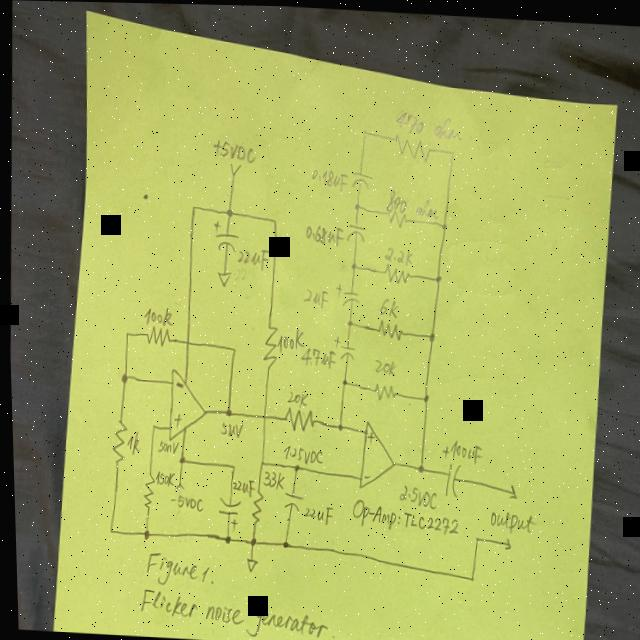capacitor: (437, 439, 457, 493), (209, 217, 237, 252), (212, 495, 237, 528), (329, 332, 353, 359), (331, 282, 357, 305), (348, 166, 370, 187), (278, 487, 299, 509), (342, 220, 364, 240)
crossover: (180, 335, 188, 345), (257, 410, 264, 418)
ground: (213, 267, 230, 286), (240, 554, 254, 570)
junction: (116, 370, 125, 382), (222, 204, 231, 216), (417, 391, 426, 401), (424, 329, 433, 339), (138, 527, 146, 538), (332, 419, 340, 430), (173, 453, 182, 462), (351, 199, 359, 209), (244, 534, 252, 544), (412, 460, 420, 470), (277, 536, 285, 546), (463, 571, 471, 581), (219, 532, 227, 542), (221, 405, 229, 415), (359, 124, 367, 134), (432, 270, 439, 281), (188, 201, 195, 211), (268, 213, 275, 223), (147, 420, 154, 430), (347, 259, 354, 268), (470, 530, 476, 540), (438, 220, 445, 228), (289, 461, 296, 469), (227, 343, 233, 352), (343, 315, 349, 323), (338, 375, 344, 383), (121, 328, 127, 336), (103, 525, 109, 533), (447, 146, 453, 154), (255, 456, 260, 464), (227, 461, 232, 467)
resistor: (391, 130, 431, 160), (257, 319, 278, 370), (106, 415, 126, 464), (279, 403, 313, 431), (372, 316, 401, 338), (141, 323, 168, 346), (367, 378, 395, 399), (380, 262, 407, 283), (245, 488, 260, 524), (384, 206, 407, 227), (137, 473, 151, 507)
terminal: (225, 159, 240, 175), (502, 481, 513, 497), (499, 534, 507, 547), (171, 480, 183, 488)
text: (133, 585, 332, 640), (345, 495, 455, 533), (140, 549, 210, 586), (391, 106, 461, 138), (382, 186, 438, 217), (485, 506, 532, 532), (209, 135, 256, 160), (392, 481, 435, 506), (301, 221, 342, 244), (276, 441, 320, 462), (296, 343, 333, 367), (233, 244, 267, 270), (308, 166, 346, 189), (272, 324, 302, 351), (445, 435, 479, 458), (162, 491, 200, 511), (298, 502, 330, 523), (299, 284, 327, 307), (139, 303, 169, 324), (381, 243, 411, 263), (215, 417, 241, 436), (369, 355, 395, 374), (258, 467, 280, 489), (375, 294, 397, 316), (121, 428, 138, 454), (281, 387, 305, 404), (227, 476, 249, 494), (150, 467, 172, 485), (153, 438, 173, 454), (169, 410, 179, 425), (363, 427, 371, 441), (172, 377, 182, 388), (358, 470, 366, 478)
